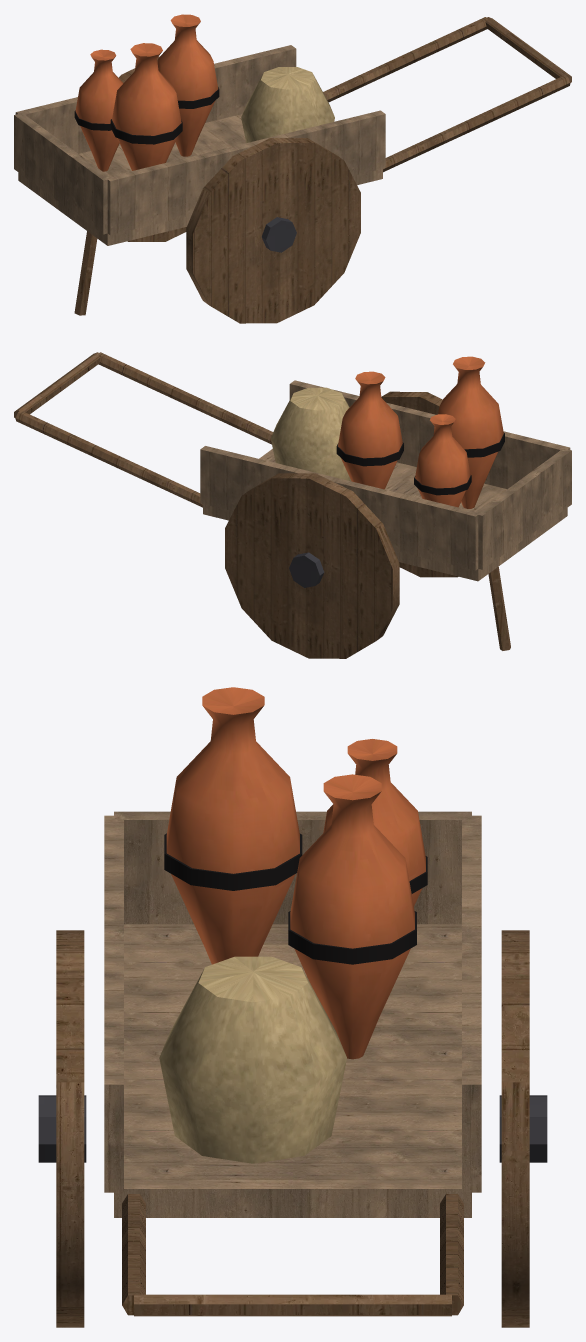
The model's file is decor_cart_t1.glb.
The picture shows the model from 3 angles, top to bottom: view 1: azimuth 30°, elevation 25°; view 2: azimuth 150°, elevation 25°; view 3: azimuth 270°, elevation 25°; orthographic projection. The views are drawn at different scales.
Visible parts, largest first — view 1: wood_dark, wood, terracotta, rope, black_glaze, iron; view 2: wood_dark, wood, terracotta, rope, black_glaze, iron; view 3: wood, terracotta, wood_dark, rope, black_glaze, iron.
Boxes of the visible parts, x1,y1,x2,y2 form: wood_dark: (74, 17, 571, 323); wood: (14, 45, 385, 245); terracotta: (75, 14, 218, 171); rope: (241, 67, 334, 142); black_glaze: (74, 87, 219, 144); iron: (261, 217, 296, 252); wood_dark: (14, 352, 510, 658); wood: (200, 380, 571, 581); terracotta: (338, 356, 503, 508); rope: (271, 387, 351, 481); black_glaze: (336, 432, 504, 495); iron: (289, 552, 324, 587); wood: (104, 811, 481, 1217); terracotta: (166, 687, 425, 1059); wood_dark: (56, 930, 529, 1327); rope: (159, 956, 346, 1163); black_glaze: (164, 833, 427, 964); iron: (38, 1095, 547, 1162).
Size of the model in its own units: 2.75 by 1.46 by 1.28.
Materials: 6 (5 with a texture image).
